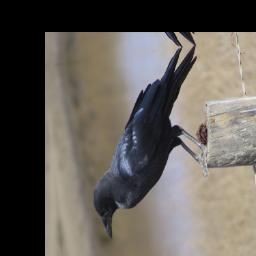Crow: (79, 44, 217, 244)
